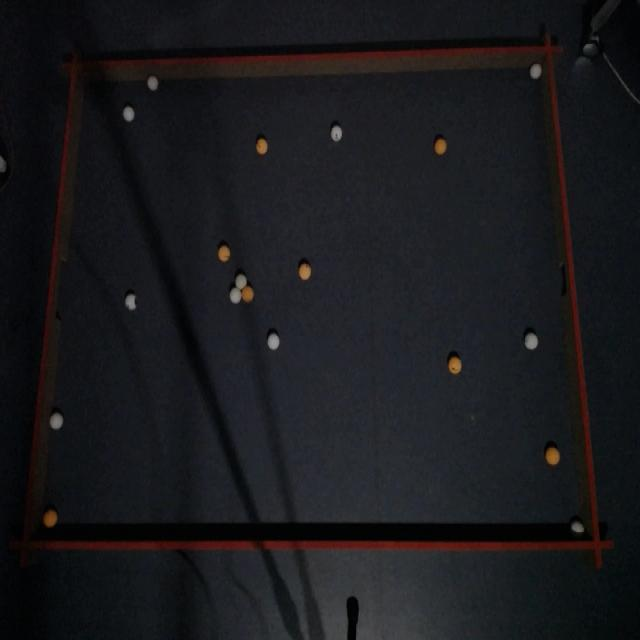orange_ball: (545, 446, 560, 466), (44, 508, 58, 528), (241, 284, 254, 302), (449, 356, 461, 374), (218, 244, 230, 262), (299, 263, 311, 280), (256, 137, 267, 154), (436, 142, 446, 154)
white_ball: (49, 411, 64, 431), (524, 333, 538, 350), (267, 332, 280, 350), (123, 104, 135, 122), (529, 63, 542, 79), (235, 272, 247, 289), (331, 125, 342, 141), (147, 75, 158, 91), (230, 286, 240, 303), (572, 520, 584, 534), (127, 296, 136, 310)
